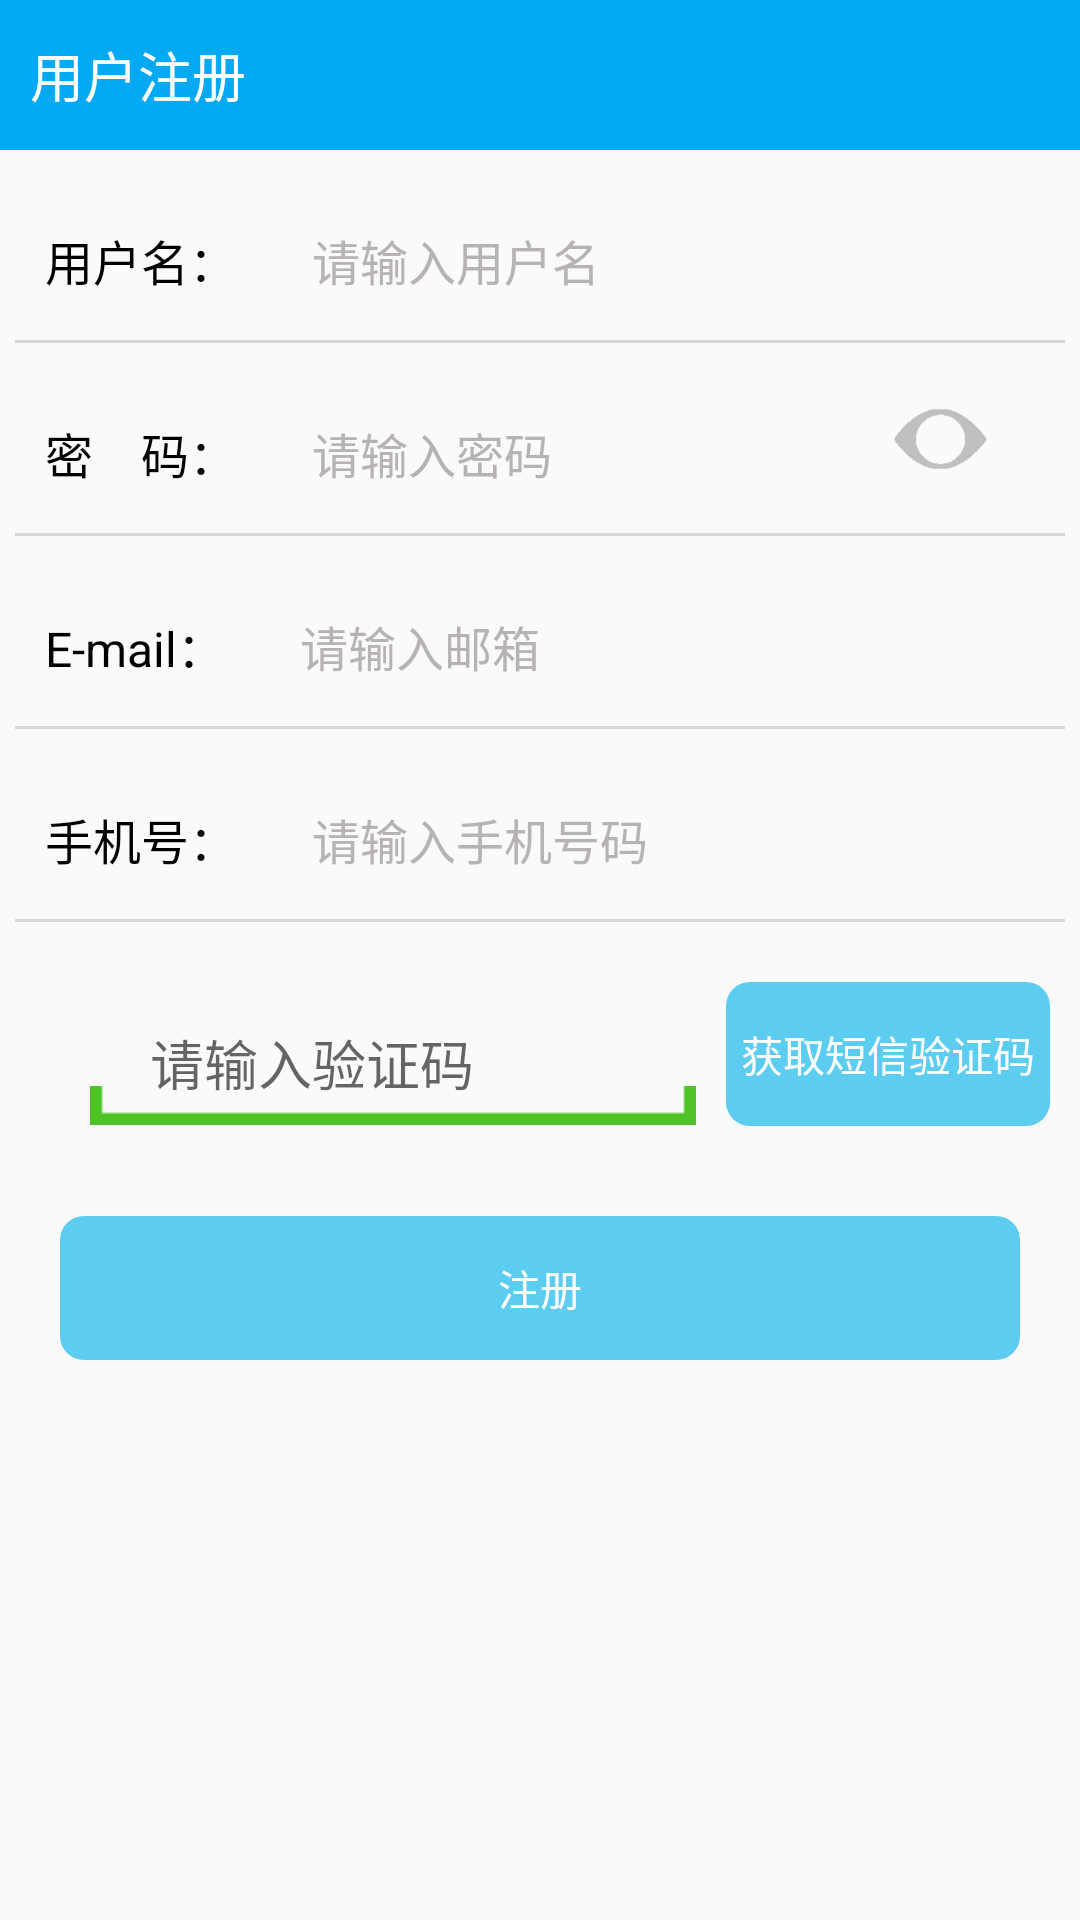

Where to tap for icons on this 1080px×1920px app screen, as [x,y]:
eye unenable: [940,439]
